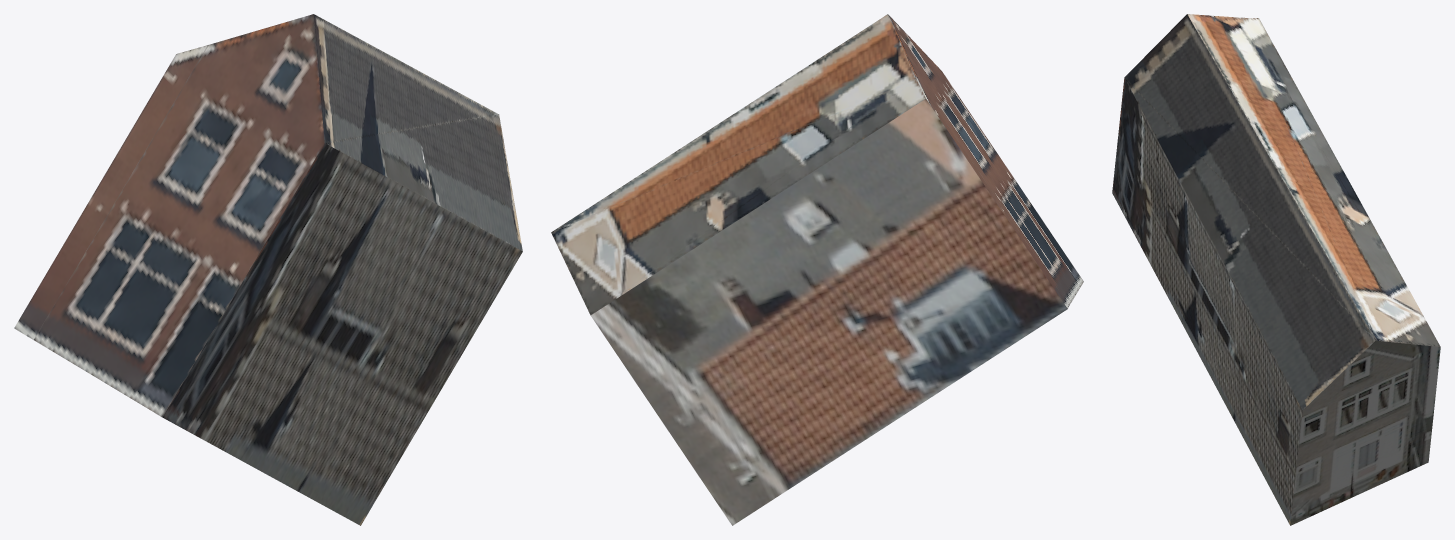
The picture shows the model from 3 angles, left to right: view 1: azimuth 30°, elevation 25°; view 2: azimuth 150°, elevation 25°; view 3: azimuth 270°, elevation 25°; orthographic projection. The views are drawn at different scales.
Visible parts, largest first — view 1: BAG_0599100000656923 (×3); view 2: BAG_0599100000656923 (×3); view 3: BAG_0599100000656923 (×3).
Part boxes in pixels (x1,y1,x2,y2): BAG_0599100000656923 (×3): (14, 14, 522, 525); BAG_0599100000656923 (×3): (551, 14, 1083, 525); BAG_0599100000656923 (×3): (1112, 14, 1440, 525).
Size of the model in its own units: 15.77 by 15.62 by 9.93.
Materials: 1 (1 with a texture image).
